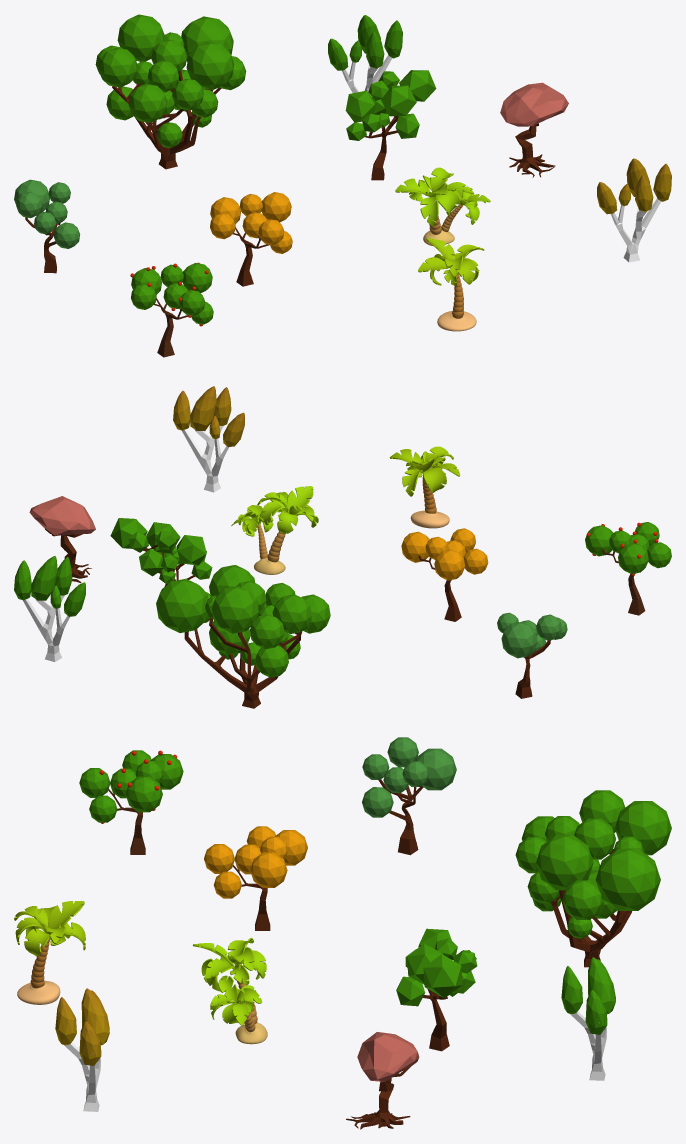
Rendered from forest.glb.
The picture shows the model from 3 angles, top to bottom: view 1: azimuth 30°, elevation 25°; view 2: azimuth 150°, elevation 25°; view 3: azimuth 270°, elevation 25°; orthographic projection. The views are drawn at different scales.
Parts seen in each view (by area): view 1: tree crown (×4), treetop (×4), trunk and branches (×6), Palm leaves, Palm Leaves, Ground, tree; view 2: tree crown (×4), treetop (×4), trunk and branches (×4), Palm leaves, Palm Leaves, tree, Ground, Palm trunk; view 3: tree crown (×4), treetop (×4), trunk and branches (×5), Palm leaves, Palm Leaves, tree, Ground.
Boxes of the visible parts, <box> form: tree crown (×4): <box>14,14,568,248</box>; treetop (×4): <box>131,15,671,324</box>; trunk and branches (×6): <box>112,61,661,357</box>; Palm leaves: <box>395,167,490,225</box>; Palm Leaves: <box>418,238,484,285</box>; Ground: <box>437,310,476,331</box>; tree: <box>342,55,392,96</box>; tree crown (×4): <box>29,496,567,677</box>; treetop (×4): <box>14,386,671,616</box>; trunk and branches (×4): <box>44,425,551,708</box>; Palm leaves: <box>231,486,318,536</box>; Palm Leaves: <box>389,446,460,496</box>; tree: <box>23,595,69,661</box>; Ground: <box>410,510,449,528</box>; Palm trunk: <box>257,524,285,562</box>; tree crown (×4): <box>357,737,671,1081</box>; treetop (×4): <box>55,750,615,1065</box>; trunk and branches (×5): <box>64,779,631,1129</box>; Palm leaves: <box>193,937,266,1025</box>; Palm Leaves: <box>14,901,85,956</box>; tree: <box>571,1011,606,1080</box>; Ground: <box>17,980,60,1004</box>.
Bounding box in the file's own units: 2.45 × 0.5931 × 2.19.
23 materials, 1 textured.
